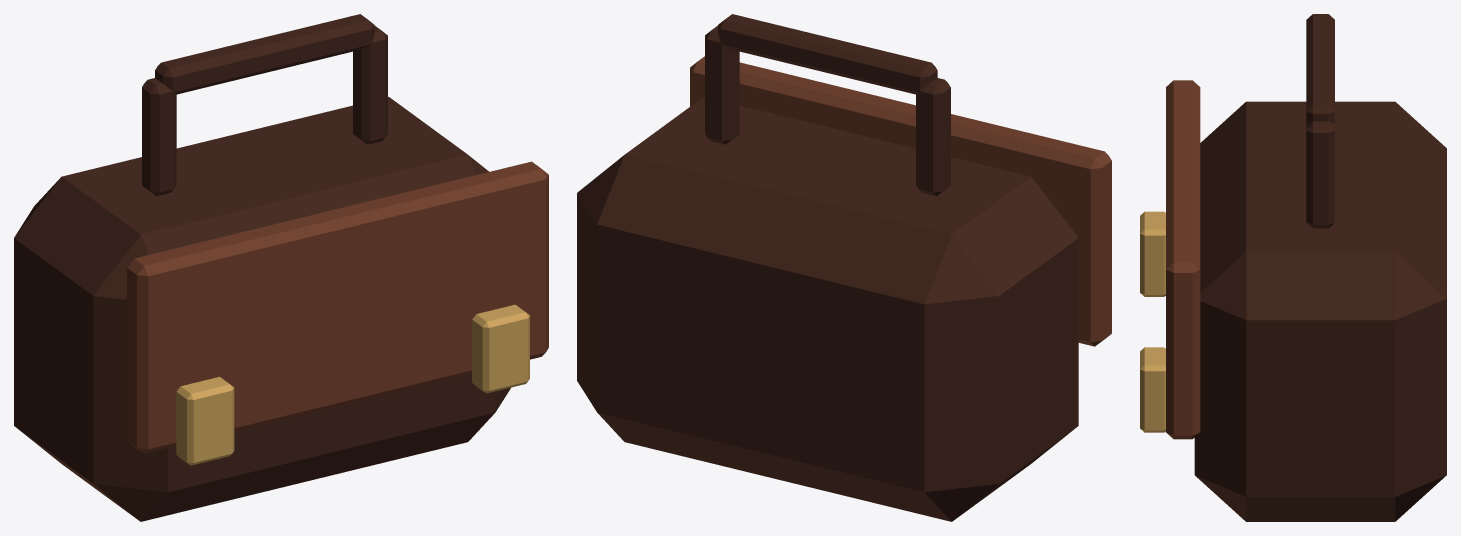
File: residential_accessories_05.glb
The picture shows the model from 3 angles, left to right: view 1: azimuth 30°, elevation 25°; view 2: azimuth 150°, elevation 25°; view 3: azimuth 270°, elevation 25°; orthographic projection. The views are drawn at different scales.
Visible parts, largest first — view 1: Bag, Flap, Handle_001, Buckle, Buckle_001, Handle, Handle_002; view 2: Bag, Flap, Handle_001, Handle, Handle_002; view 3: Bag, Flap, Handle_001, Handle_002, Buckle, Buckle_001.
Part boxes in pixels (box(x1,y1,x2,y2)): Bag: box(14, 97, 510, 521); Flap: box(127, 161, 548, 453); Handle_001: box(155, 14, 374, 94); Buckle: box(176, 376, 234, 465); Buckle_001: box(472, 304, 529, 393); Handle: box(142, 78, 176, 196); Handle_002: box(353, 26, 387, 144); Bag: box(577, 97, 1078, 521); Flap: box(690, 56, 1111, 346); Handle_001: box(718, 14, 937, 94); Handle: box(916, 78, 950, 196); Handle_002: box(705, 25, 739, 144); Bag: box(1194, 101, 1446, 521); Flap: box(1166, 80, 1200, 439); Handle_001: box(1306, 14, 1334, 123); Handle_002: box(1306, 121, 1334, 228); Buckle: box(1140, 211, 1165, 296); Buckle_001: box(1140, 347, 1165, 432).
Size of the model in its own units: 0.4 by 0.3725 by 0.2675.
